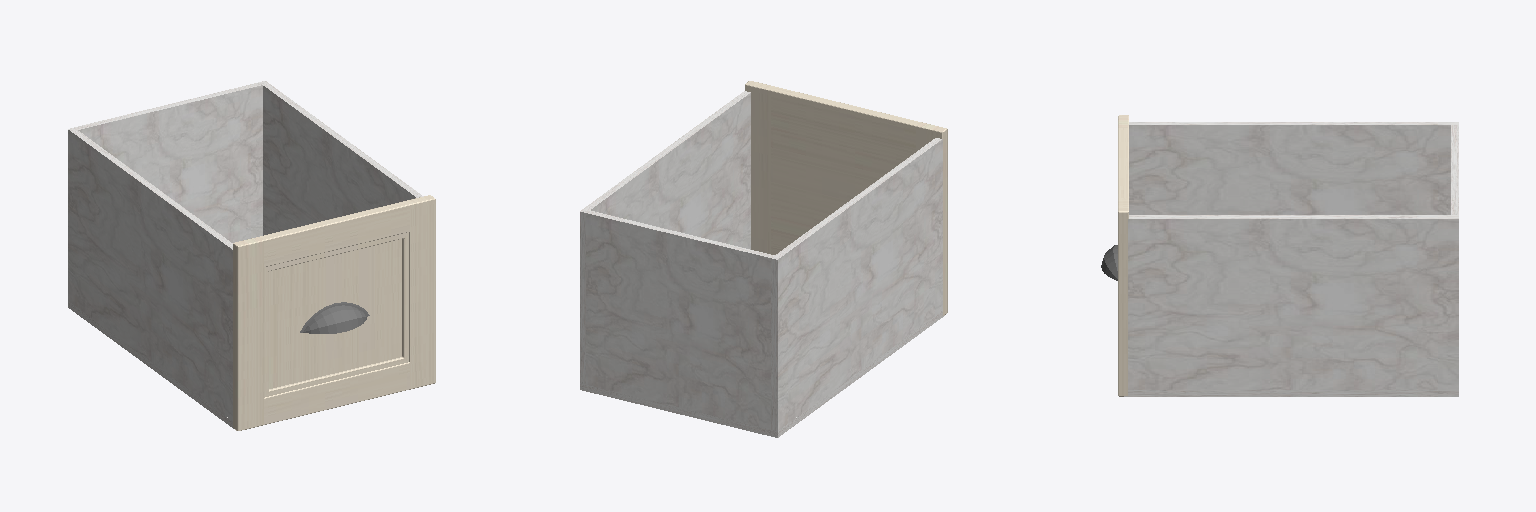
3 renders of one model, left to right at view 1: azimuth 30°, elevation 25°; view 2: azimuth 150°, elevation 25°; view 3: azimuth 270°, elevation 25°, orthographic.
Visible parts, largest first — view 1: Part6; view 2: Part6; view 3: Part6.
Boxes of the visible parts, <box> form: Part6: <box>68,81,435,430</box>; Part6: <box>580,81,947,437</box>; Part6: <box>1101,115,1458,396</box>.
Size of the model in its own units: 0.377 by 0.337 by 0.5895.
Materials: 3 (2 with a texture image).